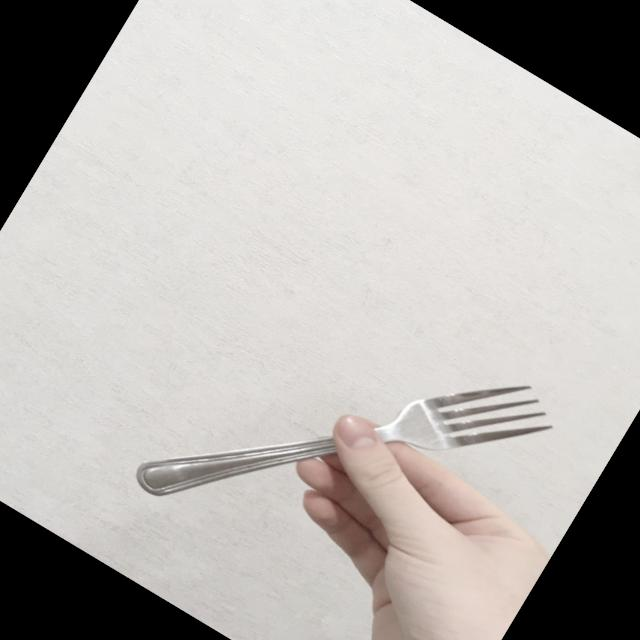fork: (130, 232, 567, 640)
